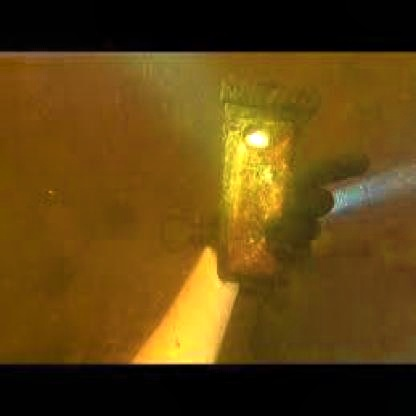cellphone: (223, 103, 291, 283)
